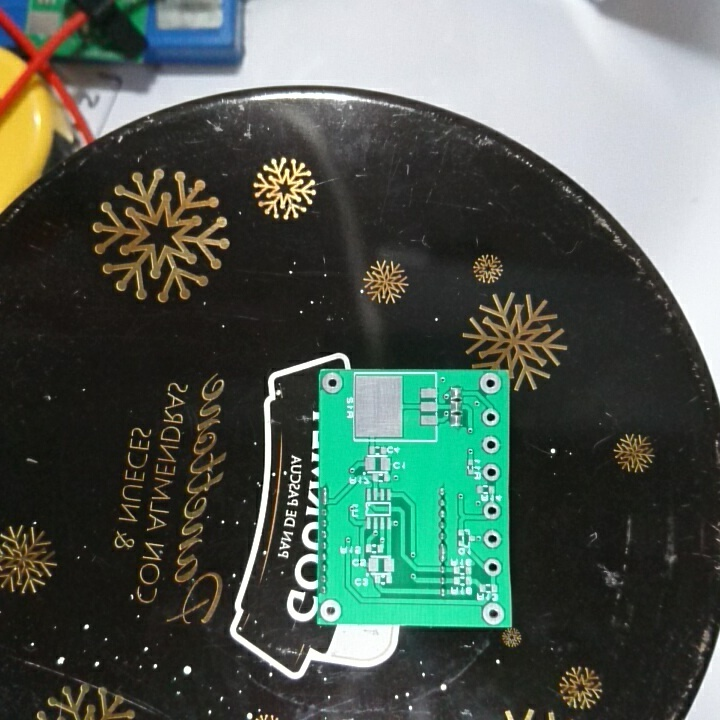F: (480, 598, 507, 626), (320, 371, 346, 396), (477, 371, 503, 396), (319, 596, 342, 624), (481, 500, 504, 523), (479, 406, 503, 428), (479, 434, 502, 456), (481, 555, 503, 578), (481, 526, 502, 550), (481, 462, 501, 483)
P: (319, 483, 333, 509), (436, 542, 449, 567)
